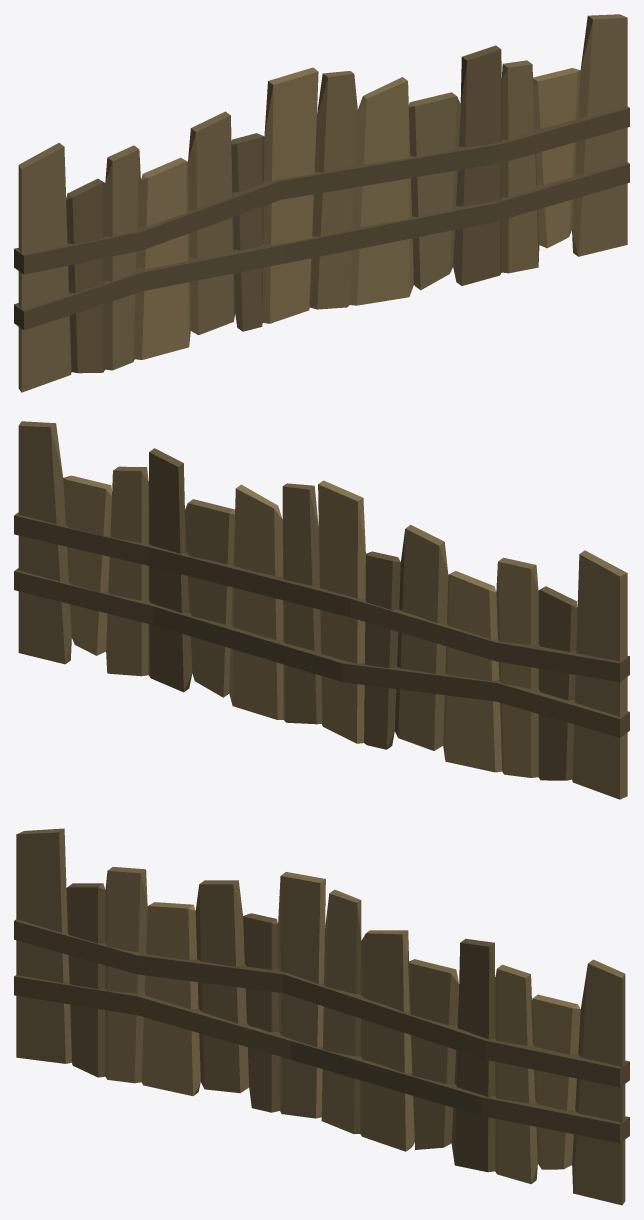
Rendered from Fence_4.fbx.
The picture shows the model from 3 angles, top to bottom: view 1: azimuth 30°, elevation 25°; view 2: azimuth 150°, elevation 25°; view 3: azimuth 330°, elevation 25°; orthographic projection.
Visible parts, largest first — view 1: Fence_4; view 2: Fence_4; view 3: Fence_4.
Boxes of the visible parts, x1=… form: Fence_4: x1=14, y1=14, x2=629, y2=392; Fence_4: x1=14, y1=421, x2=629, y2=799; Fence_4: x1=14, y1=828, x2=629, y2=1205.
Bounding box in the file's own units: 366 × 142 × 21.88.
